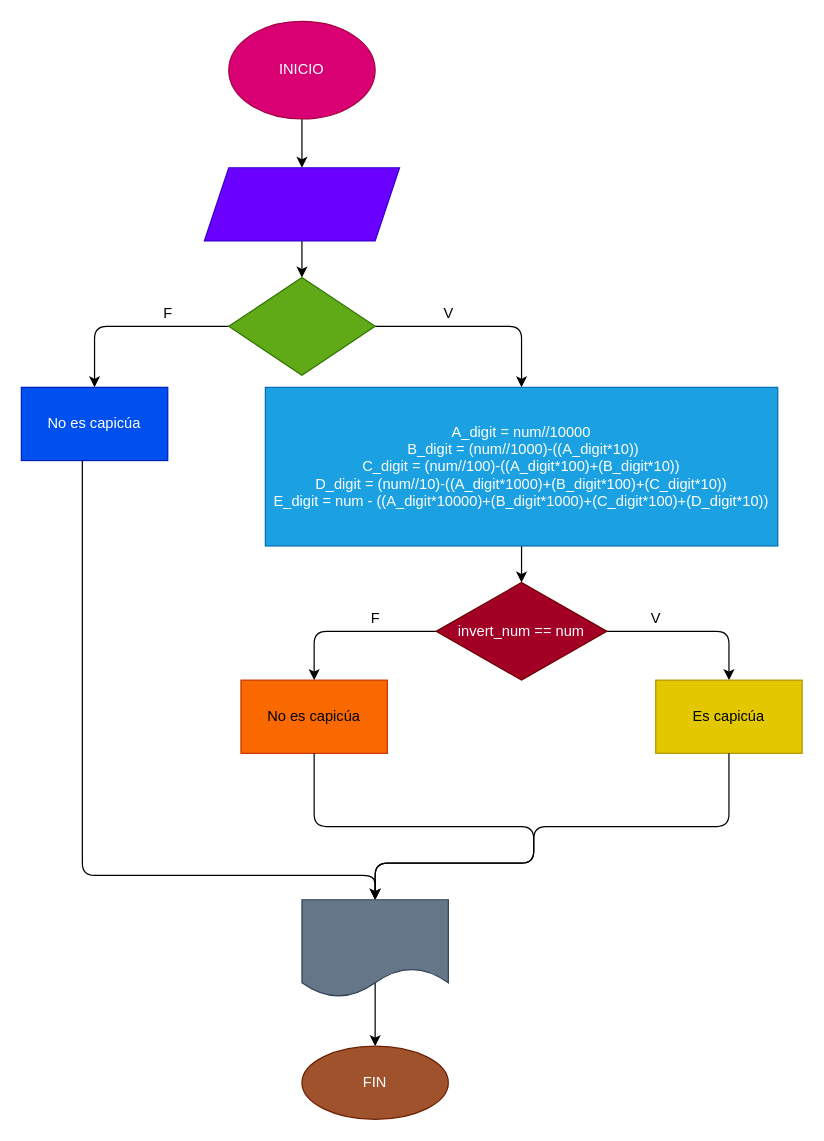
This 824x1141 diagram has some shape labels left out. The centre of each missing label's shape, as x and y in pixels:
"num" belongs at (x=301, y=204).
"num <= 99999 and num>9999" belongs at (x=301, y=325).
"Número capicúa" belongs at (x=374, y=948).
